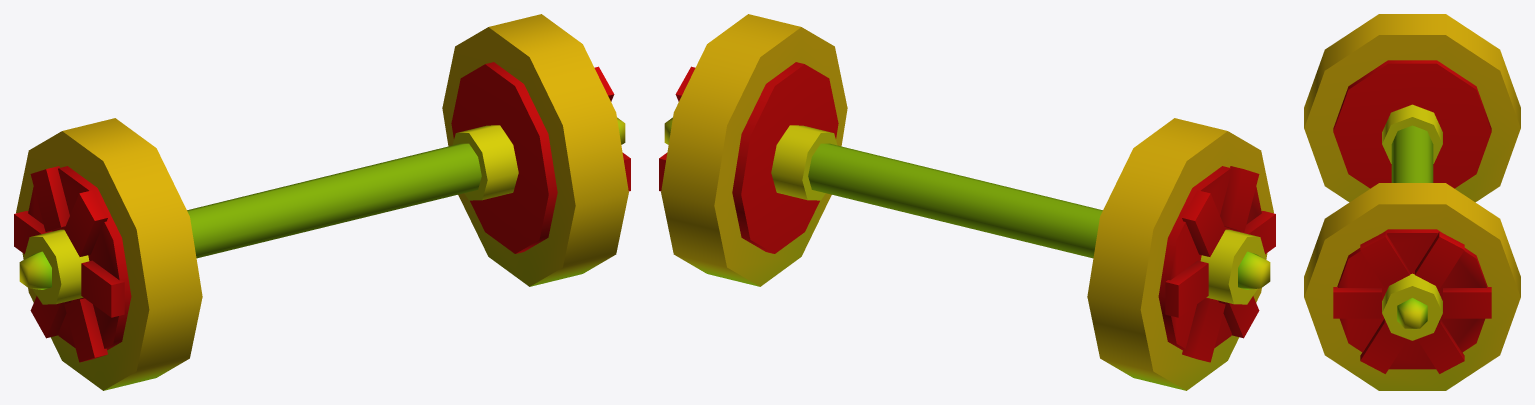
Rendered from PirateCannon_wheel0_LOD1.glb.
3 views of the same model, side by side, from view 1: azimuth 30°, elevation 25°; view 2: azimuth 150°, elevation 25°; view 3: azimuth 270°, elevation 25° (orthographic). The views are drawn at different scales.
Parts seen in each view (by area): view 1: PirateCannon_wheel0_LOD1; view 2: PirateCannon_wheel0_LOD1; view 3: PirateCannon_wheel0_LOD1.
Part boxes in pixels (<box>): PirateCannon_wheel0_LOD1: <box>14,14,630,390</box>; PirateCannon_wheel0_LOD1: <box>659,14,1275,390</box>; PirateCannon_wheel0_LOD1: <box>1304,14,1520,390</box>.
Bounding box in the file's own units: 2.35 × 0.8655 × 0.91.
